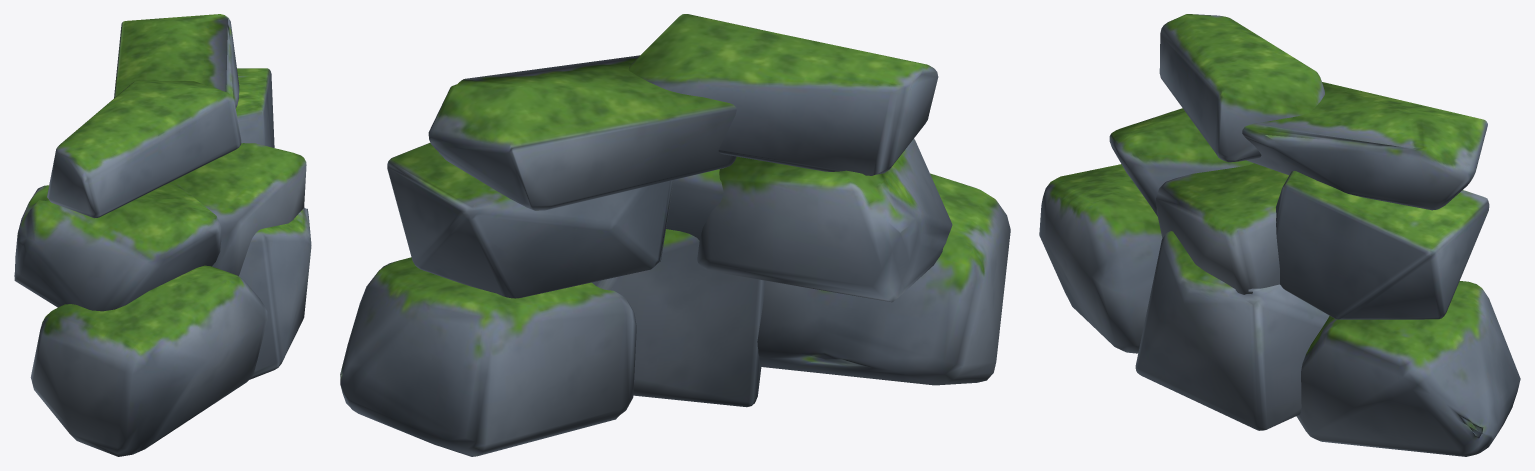
The model's file is cliff_b.glb.
The picture shows the model from 3 angles, left to right: view 1: azimuth 30°, elevation 25°; view 2: azimuth 150°, elevation 25°; view 3: azimuth 270°, elevation 25°; orthographic projection. The views are drawn at different scales.
Visible parts, largest first — view 1: cliff_b; view 2: cliff_b; view 3: cliff_b.
Boxes of the visible parts, x1,y1,x2,y2 form: cliff_b: [14, 14, 311, 456]; cliff_b: [340, 14, 1010, 456]; cliff_b: [1039, 14, 1520, 456].
Bounding box in the file's own units: 4.2 × 3.07 × 4.31.
1 material, 1 textured.
